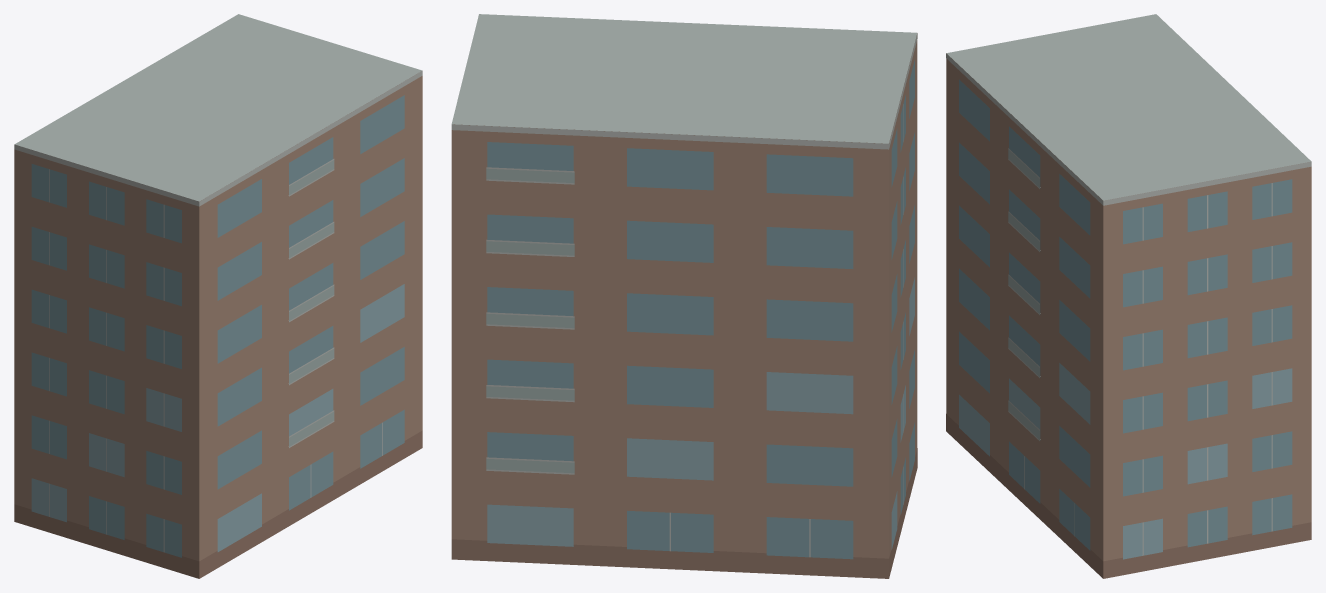
File: survey-upis-32553305.glb
3 renders of one model, left to right at view 1: azimuth 30°, elevation 25°; view 2: azimuth 150°, elevation 25°; view 3: azimuth 270°, elevation 25°, orthographic. The views are drawn at different scales.
Parts seen in each view (by area): view 1: survey-upis-32553305.tmp; view 2: survey-upis-32553305.tmp; view 3: survey-upis-32553305.tmp.
Boxes of the visible parts, left/top/right/bottom form: survey-upis-32553305.tmp: left=14, top=14, right=422, bottom=578; survey-upis-32553305.tmp: left=451, top=14, right=917, bottom=578; survey-upis-32553305.tmp: left=946, top=14, right=1311, bottom=578.
Bounding box in the file's own units: 19.39 × 18.3 × 16.04.
